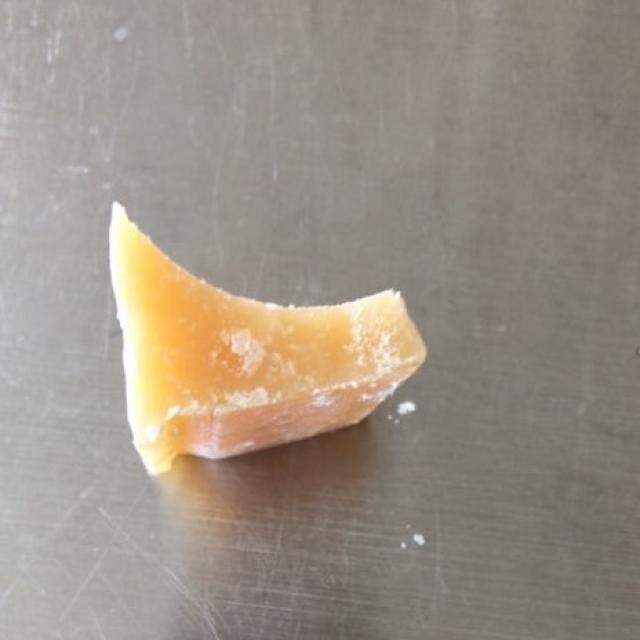cheese: (110, 214, 421, 468)
